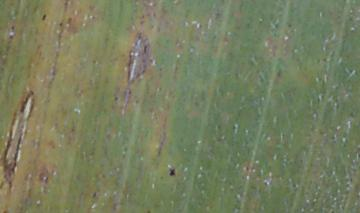tarspot: (166, 166, 177, 177), (40, 12, 48, 22), (7, 32, 15, 40), (58, 20, 65, 29), (68, 126, 77, 133), (126, 88, 134, 95), (112, 95, 119, 102), (9, 24, 17, 30), (285, 22, 293, 28), (91, 191, 97, 198), (134, 98, 138, 105), (329, 209, 335, 213)
